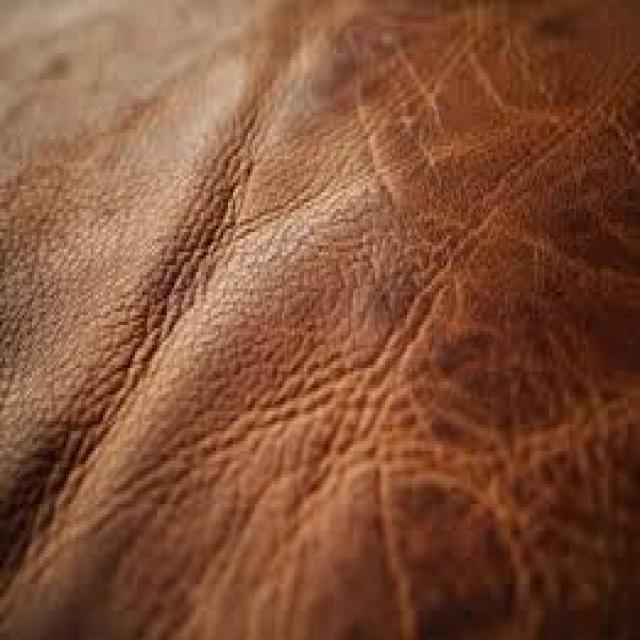Crease: (26, 228, 229, 576), (283, 153, 489, 339)
